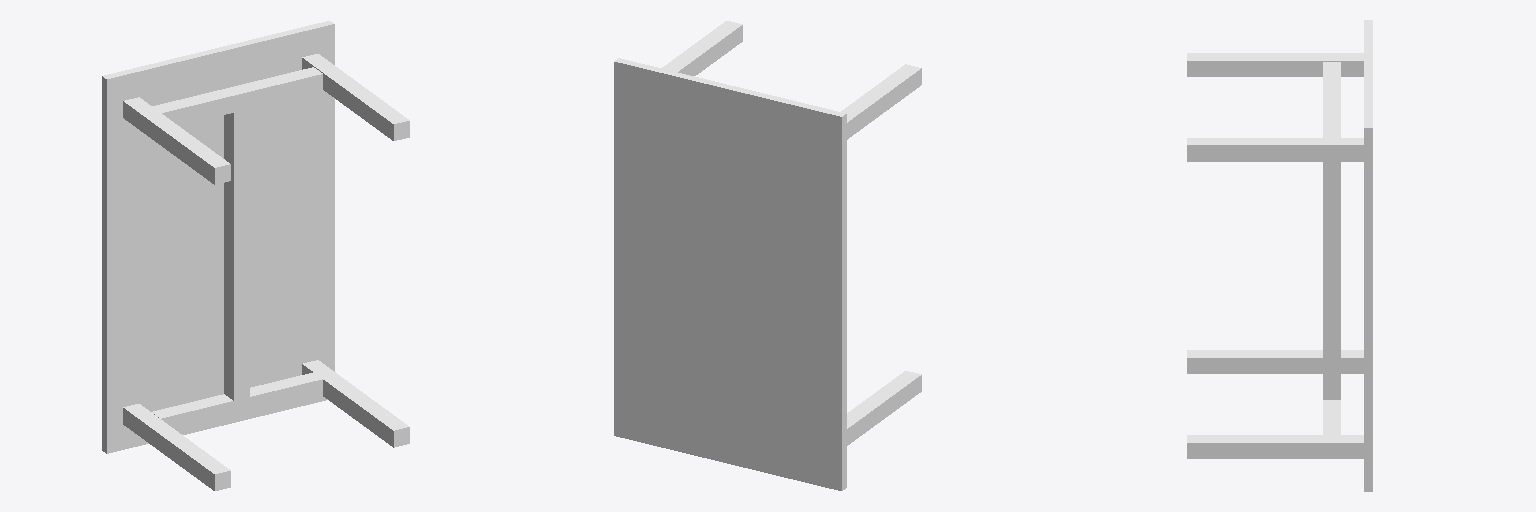
robot.urdf — table1_one.urdf:
<?xml version="1.0" ?>
<robot name="table1_one.urdf">
  <link name="baseLink">
    <inertial>
      <origin rpy="0 0 0" xyz="0 0 0"/>
       <mass value="0.0"/>
       <inertia ixx="0" ixy="0" ixz="0" iyy="0" iyz="0" izz="0"/>
    </inertial>
    <visual>
      <origin rpy="0 0 0" xyz="0 0 0"/>
      <geometry>
        <mesh filename="table1_one.obj" scale="1.0 1.0 1.0"/>
      </geometry>
      <material name="white">
       <color rgba="1 1 1 1"/>
     </material>
    </visual>
    <collision concave="yes">
      <origin rpy="0 0 0" xyz="0 0 0"/>
      <geometry>
        <mesh filename="table1_one.obj" scale="1.0 1.0 1.0"/>
        <!-- You could also specify the collision (for the table1_one) with a "box" tag: -->
        <!-- <box size=".06 .06 .06"/> -->
      </geometry>
    </collision>
  </link>
</robot>
        

--- What the picture shows (computed from the rendered views, not written in the file) ---
3 views of the same robot in one strip: view 1: azimuth 30°, elevation 25°; view 2: azimuth 150°, elevation 25°; view 3: azimuth 270°, elevation 25° (orthographic).
Model table1_one.urdf with 1 links and 0 joints (none), rooted at baseLink, posed all joints at 0.
Visible links, largest first — view 1: baseLink; view 2: baseLink; view 3: baseLink.
Boxes of the visible links, <box> form: baseLink: <box>102,21,409,490</box>; baseLink: <box>614,21,921,490</box>; baseLink: <box>1187,20,1372,491</box>.
Size in the robot's own frame: 140 by 103 by 220 metres.
Meshes: 1 distinct files referenced, 1 mesh visuals loaded (1 OBJ).
